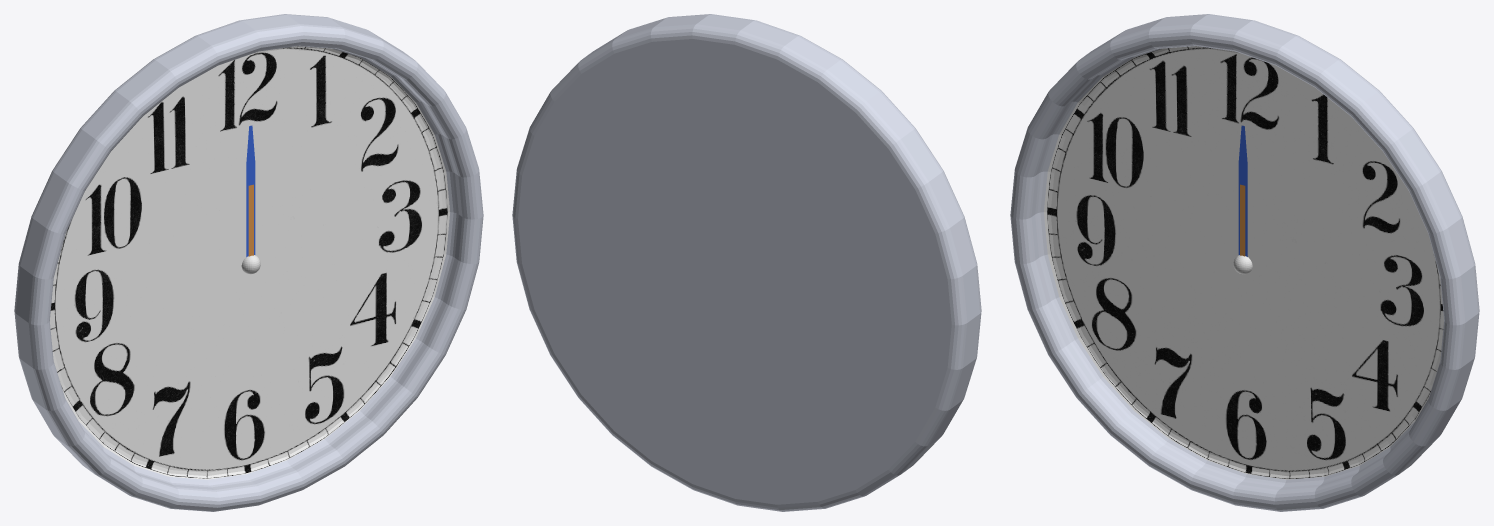
Rendered from clock.fbx.
3 views of the same model, side by side, from view 1: azimuth 30°, elevation 25°; view 2: azimuth 150°, elevation 25°; view 3: azimuth 330°, elevation 25° (orthographic).
Parts seen in each view (by area): view 1: Cylinder, Plane; view 2: Cylinder; view 3: Cylinder, Plane.
Boxes of the visible parts, box(x1,y1,x2,y2) form: Cylinder: box(14, 14, 483, 511); Plane: box(246, 125, 255, 257); Cylinder: box(512, 14, 981, 511); Cylinder: box(1010, 14, 1479, 511); Plane: box(1238, 125, 1247, 256).
Size of the model in its own units: 200 by 200 by 18.47.
4 materials, 1 textured.
